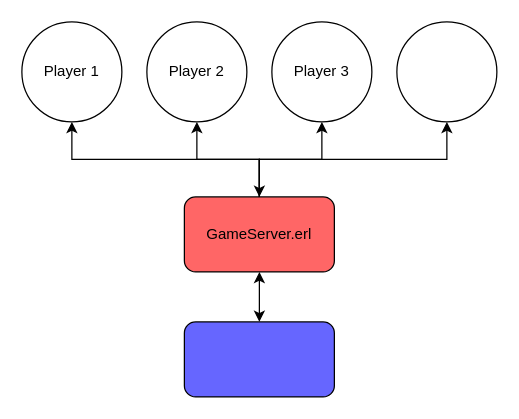
Some shapes in this 519 by 419 pixel diagram are drawn without their labels. Here are the shapes that lost their labels. From the top down, the box of each, then its label:
(396, 21, 497, 122): Player 4
(183, 321, 334, 397): ValidateGame.py
